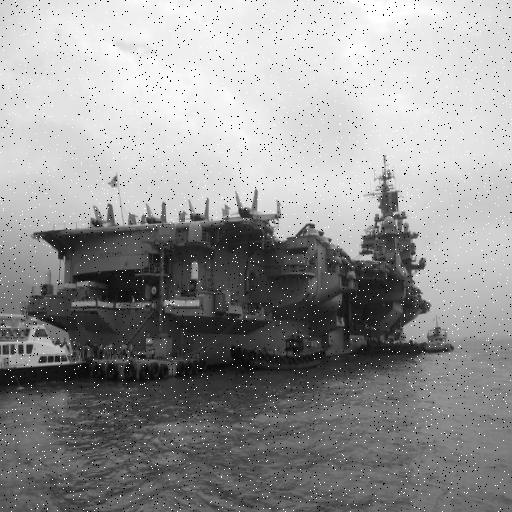Portanaves: (28, 118, 439, 381)
